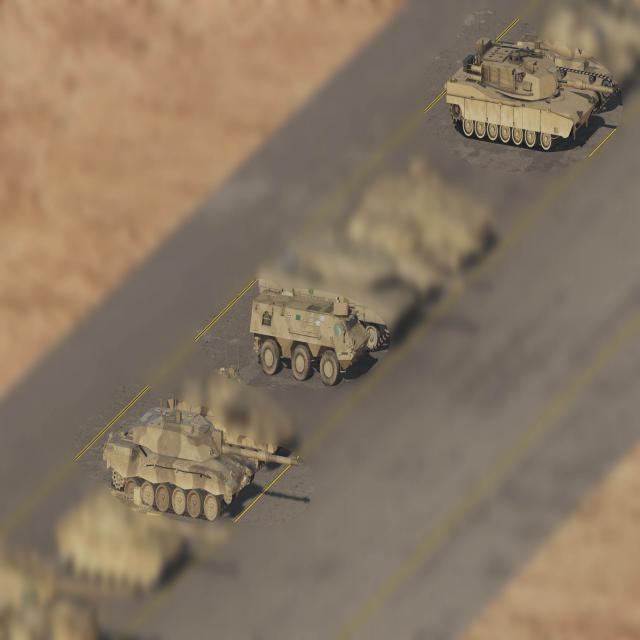tank: (101, 397, 306, 522), (444, 37, 615, 152), (249, 282, 389, 386)
